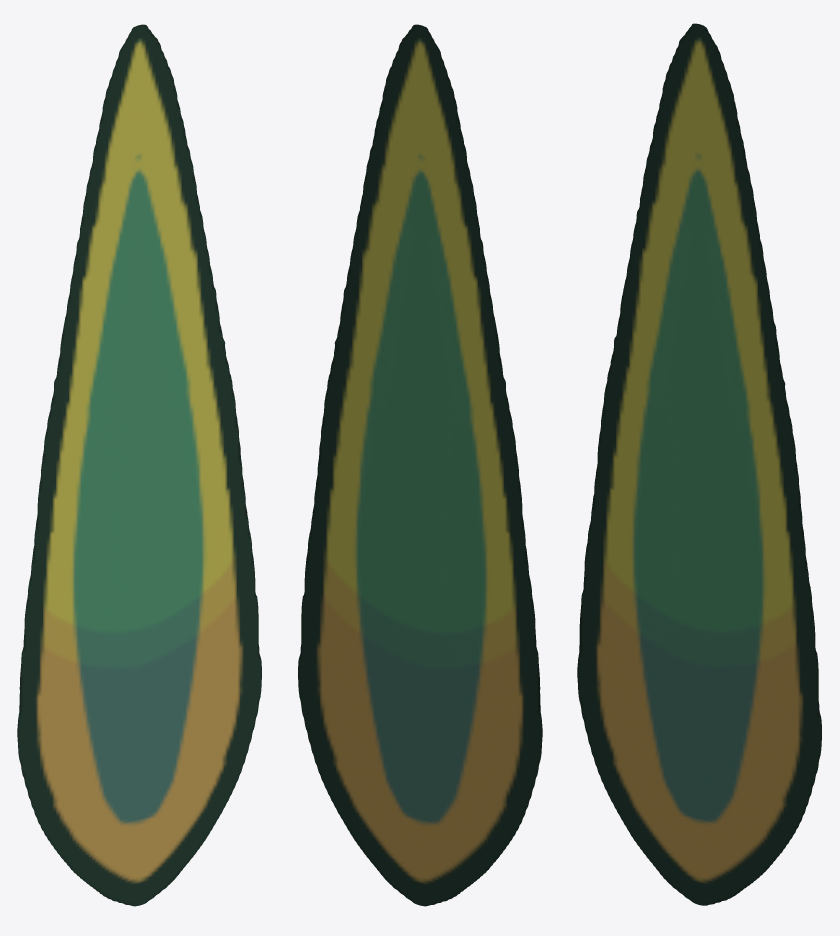
File: HojaC.fbx
3 renders of one model, left to right at view 1: azimuth 30°, elevation 25°; view 2: azimuth 150°, elevation 25°; view 3: azimuth 330°, elevation 25°, orthographic.
Visible parts, largest first — view 1: HojaC; view 2: HojaC; view 3: HojaC.
Boxes of the visible parts, x1,y1,x2,y2 form: HojaC: [17, 24, 261, 906]; HojaC: [298, 24, 542, 906]; HojaC: [577, 23, 821, 905].
Bounding box in the file's own units: 0.2096 × 0.7075 × 3.09e-08.
